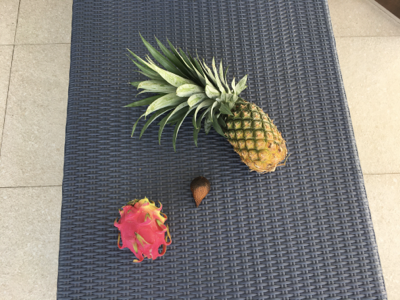dragon fruit: (114, 197, 173, 262)
pineapple: (125, 32, 289, 174)
snake fruit: (191, 178, 209, 209)
